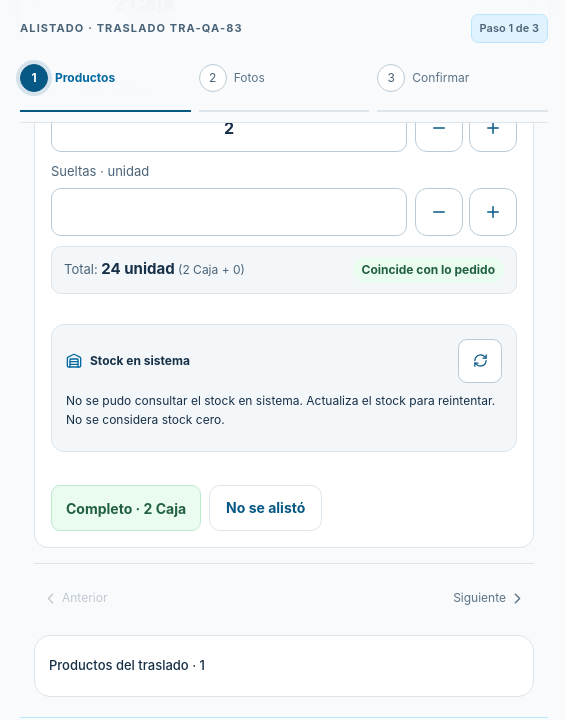
Test: Traslado con asistente y saldo registrado › no confunde un error de consulta con stock cero y permite actualizar
(page scrolled)
Click the button named "Actualizar stock de Cuadernos". click: (480, 361)
box: [458,339,502,383]
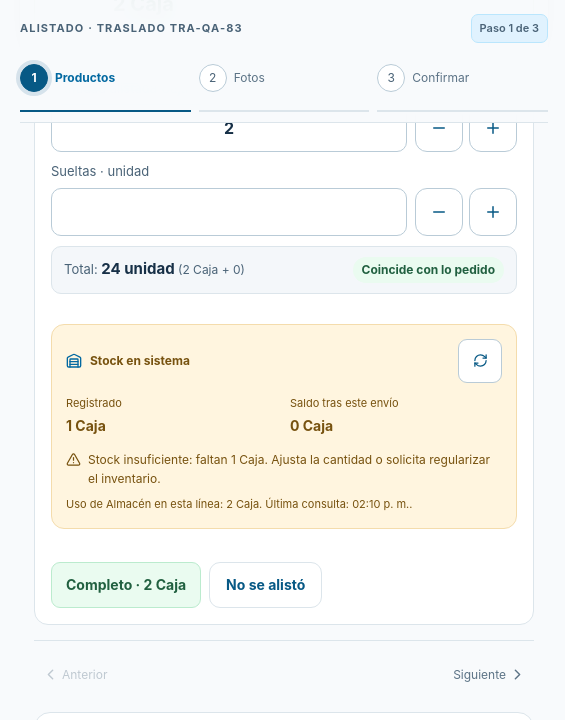
Check: the text "Stock insuficiente" is shown, box [88,452,268,467]
Check: the text "1 Caja" is shown, box [66,417,106,434]
